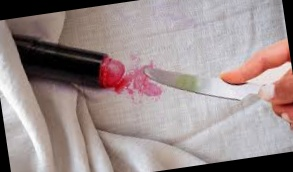lipstick: (116, 54, 167, 111)
